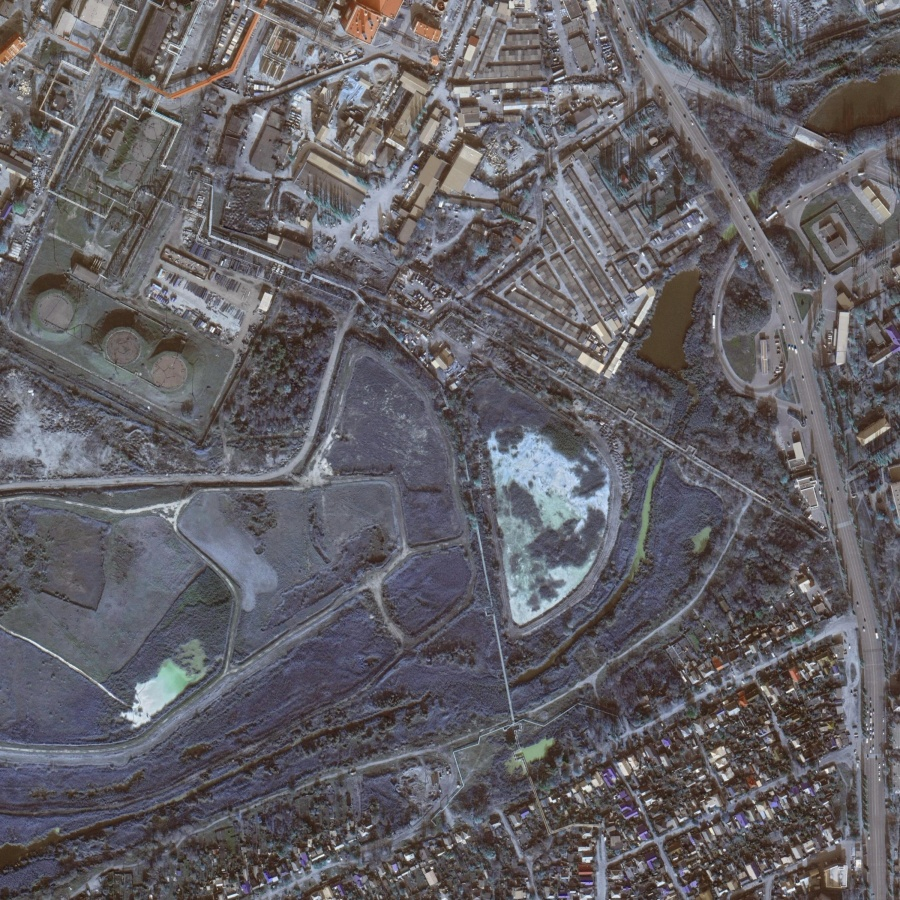PowerPlant: (18, 110, 204, 404)
